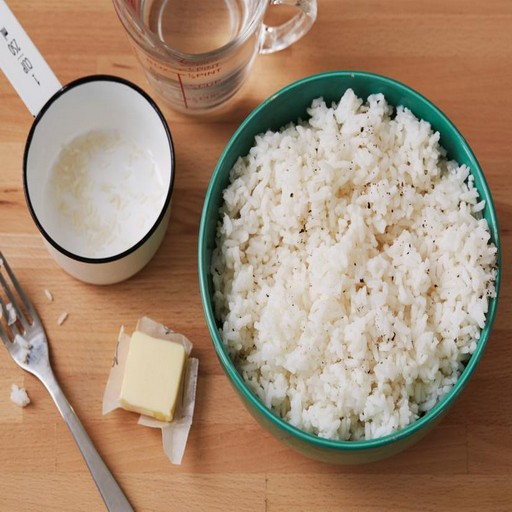rice: (283, 189, 462, 359)
